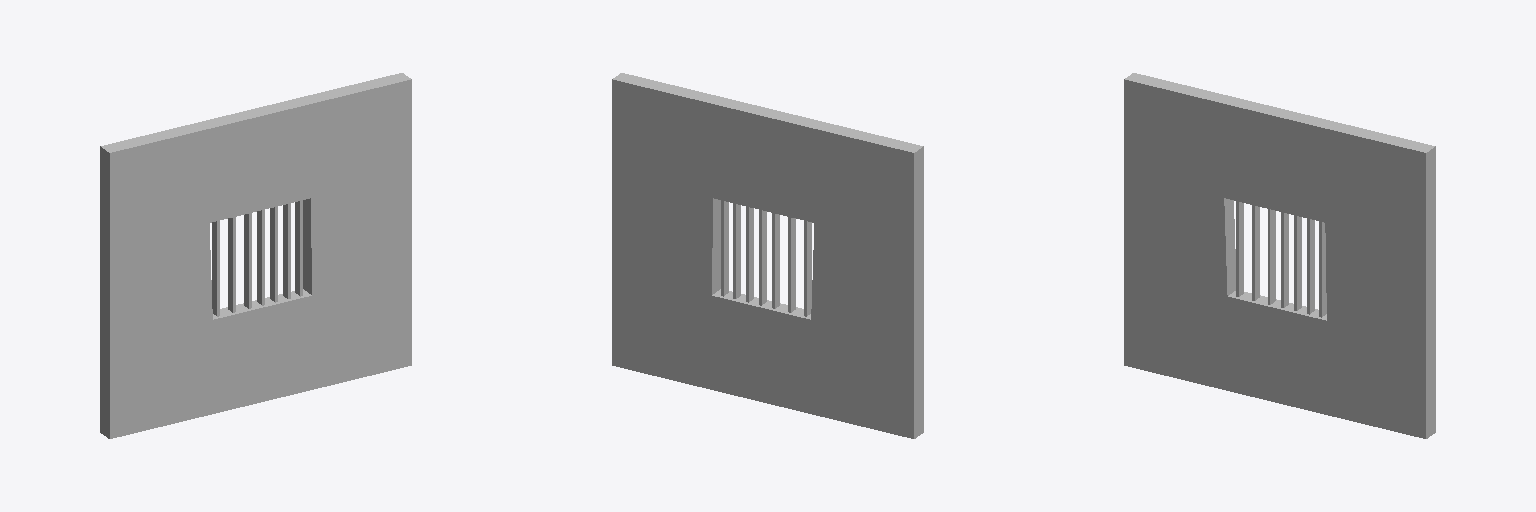
File: paredventana2.obj
3 views of the same model, side by side, from view 1: azimuth 30°, elevation 25°; view 2: azimuth 150°, elevation 25°; view 3: azimuth 330°, elevation 25° (orthographic).
Visible parts, largest first — view 1: Cube; view 2: Cube; view 3: Cube.
Boxes of the visible parts, x1=… form: Cube: x1=100, y1=73, x2=411, y2=438; Cube: x1=612, y1=73, x2=923, y2=438; Cube: x1=1124, y1=73, x2=1435, y2=438.
Size of the model in its own units: 4.44 by 4.02 by 0.2376.